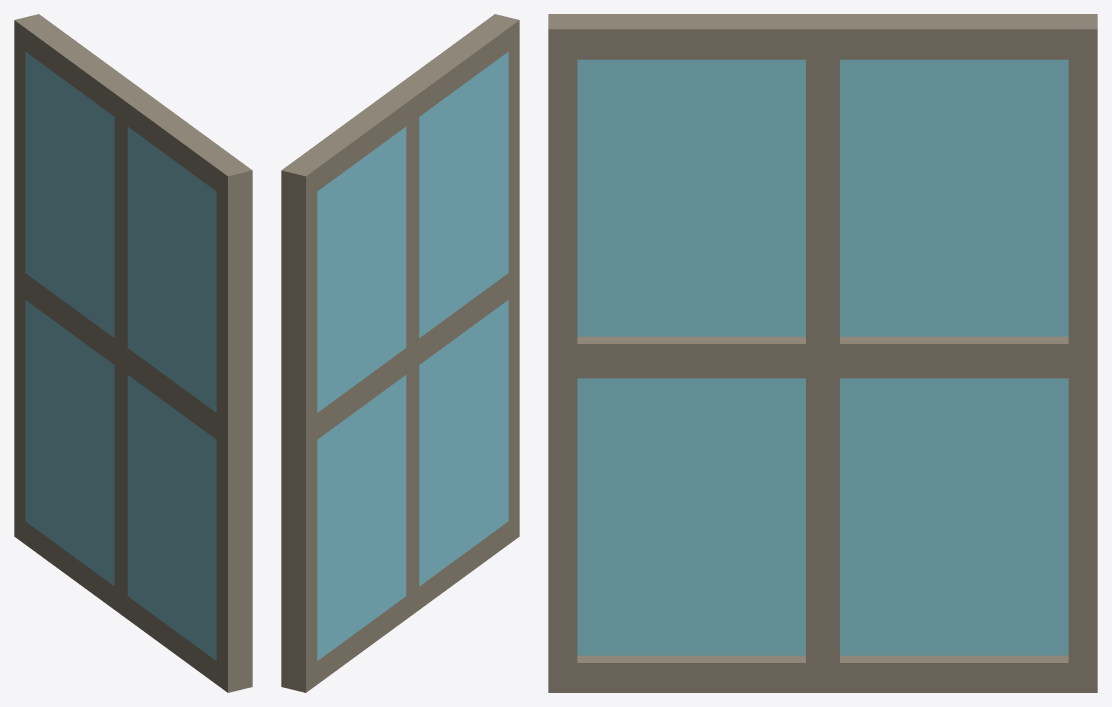
The model's file is window.glb.
3 views of the same model, side by side, from view 1: azimuth 30°, elevation 25°; view 2: azimuth 150°, elevation 25°; view 3: azimuth 270°, elevation 25° (orthographic). The views are drawn at different scales.
Parts seen in each view (by area): view 1: window_frame; view 2: window_frame; view 3: window_frame.
Part boxes in pixels (x1=…): window_frame: x1=14, y1=14, x2=252, y2=692; window_frame: x1=281, y1=14, x2=519, y2=692; window_frame: x1=548, y1=14, x2=1097, y2=692.
Bounding box in the file's own units: 0.4 × 8 × 6.
